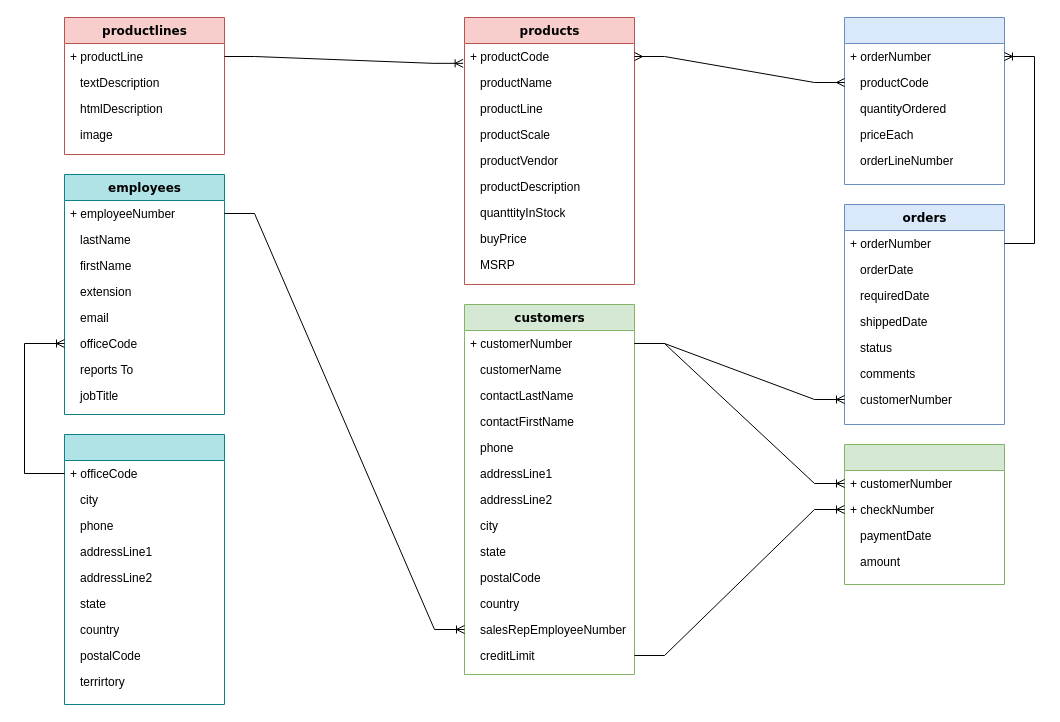
This 1060x722 diagram has some shape labels left out. Each missing label, with the box of its shape:
offices: (64, 434, 224, 704)
orderdetails: (844, 16, 1004, 184)
payments: (844, 444, 1004, 584)
